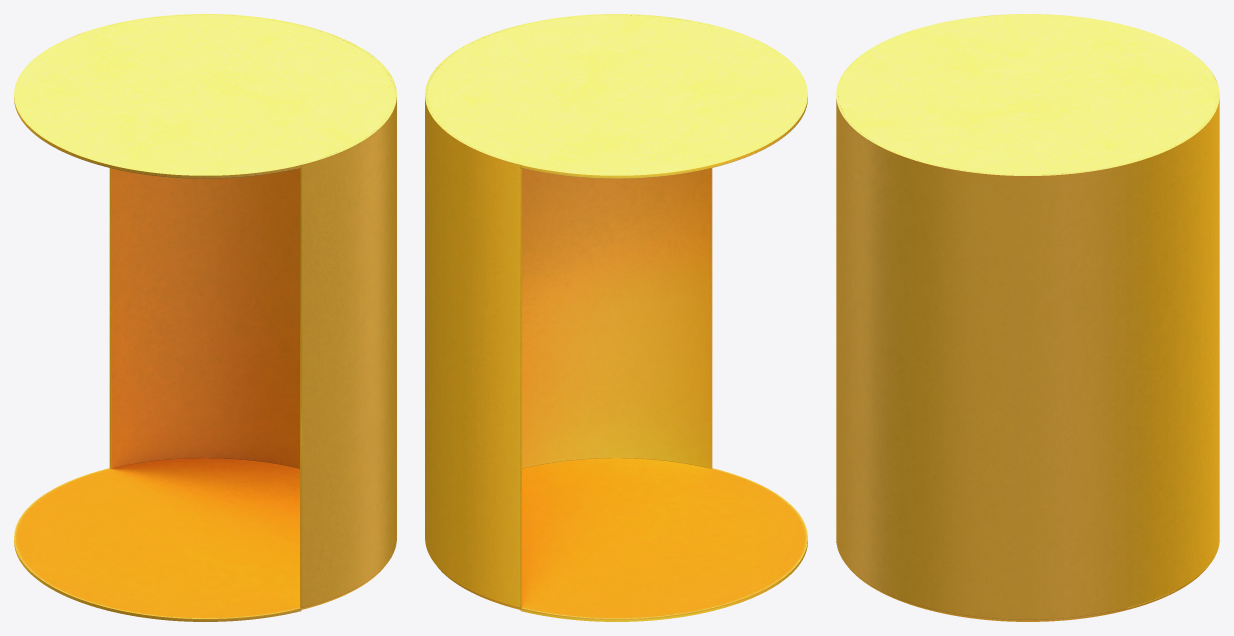
File: cylinder_table_materials_jpg.glb
3 renders of one model, left to right at view 1: azimuth 30°, elevation 25°; view 2: azimuth 150°, elevation 25°; view 3: azimuth 270°, elevation 25°, orthographic.
Parts seen in each view (by area): view 1: body; view 2: body; view 3: body.
Part boxes in pixels (x1,y1,x2,y2): body: (14, 14, 396, 621); body: (425, 14, 807, 621); body: (836, 14, 1219, 621).
Size of the model in its own units: 0.35 by 0.453 by 0.35.
Materials: 1 (1 with a texture image).
